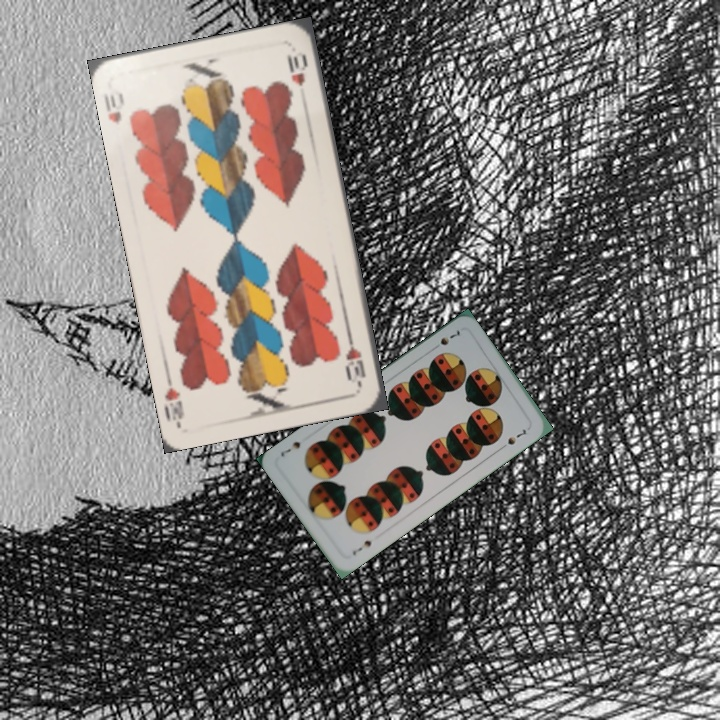H10: (342, 329, 369, 388), (101, 88, 127, 126)
S7: (428, 325, 464, 353), (348, 536, 374, 558)
